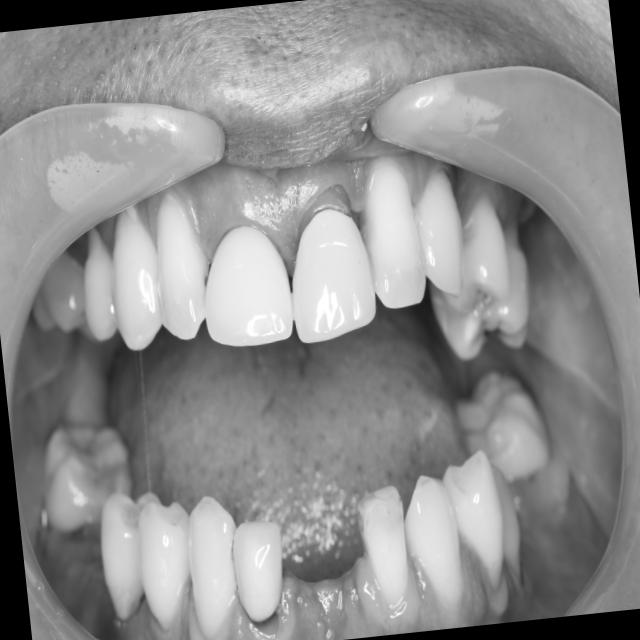tooth: (423, 194, 542, 371), (273, 187, 387, 368), (23, 387, 144, 553), (190, 209, 302, 374), (435, 356, 561, 488), (349, 150, 435, 328), (88, 466, 178, 635), (391, 455, 474, 622), (139, 185, 221, 354), (335, 466, 420, 624), (437, 440, 515, 595), (129, 483, 206, 639), (431, 184, 517, 322), (175, 484, 249, 640), (406, 150, 476, 314), (100, 212, 174, 365), (474, 440, 536, 600), (219, 505, 297, 632), (18, 232, 95, 358), (75, 230, 133, 354)
